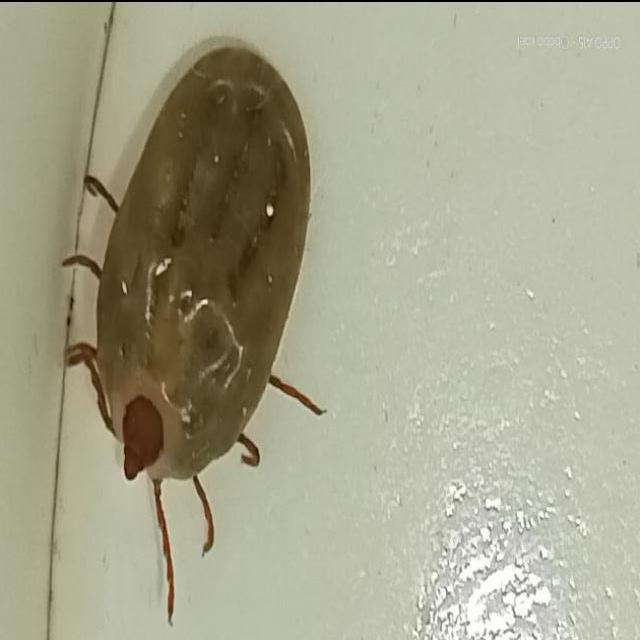Rhipicephalus Sanguineus-F-Fed: (61, 39, 322, 624)
